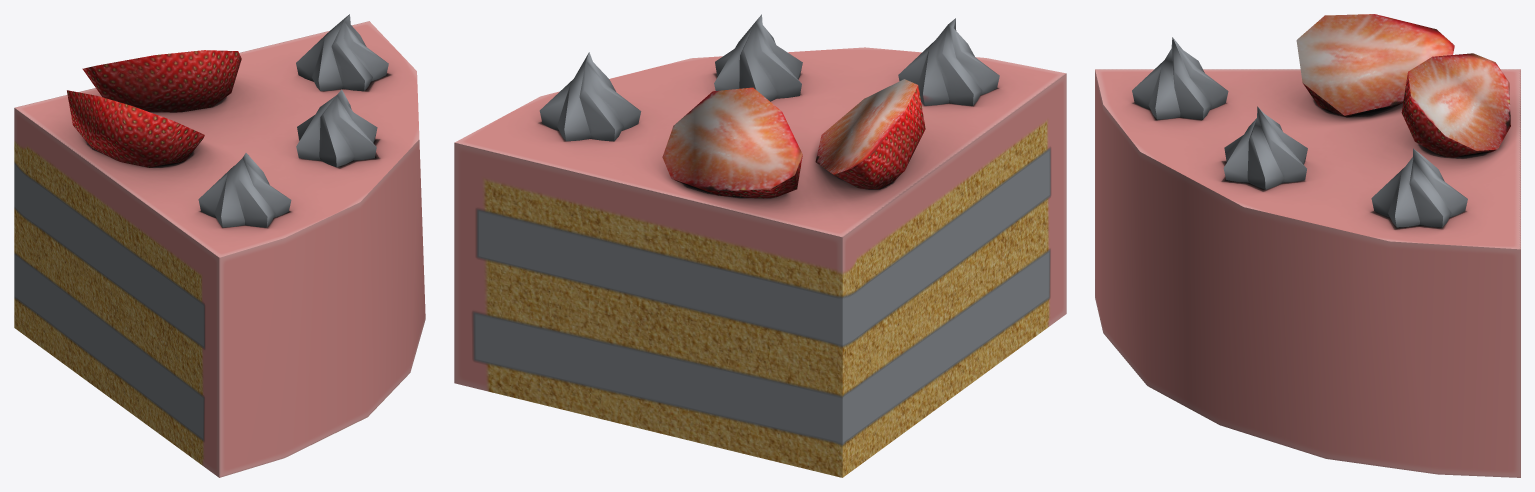
The model's file is piece_of_cake.obj.
3 views of the same model, side by side, from view 1: azimuth 30°, elevation 25°; view 2: azimuth 150°, elevation 25°; view 3: azimuth 270°, elevation 25° (orthographic). The views are drawn at different scales.
Parts seen in each view (by area): view 1: piece_of_cake.001; view 2: piece_of_cake.001; view 3: piece_of_cake.001.
Boxes of the visible parts, x1,y1,x2,y2 form: piece_of_cake.001: (14,14,425,477); piece_of_cake.001: (454,14,1066,477); piece_of_cake.001: (1095,14,1520,477).
Bounding box in the file's own units: 33.68 × 25.77 × 33.68.
